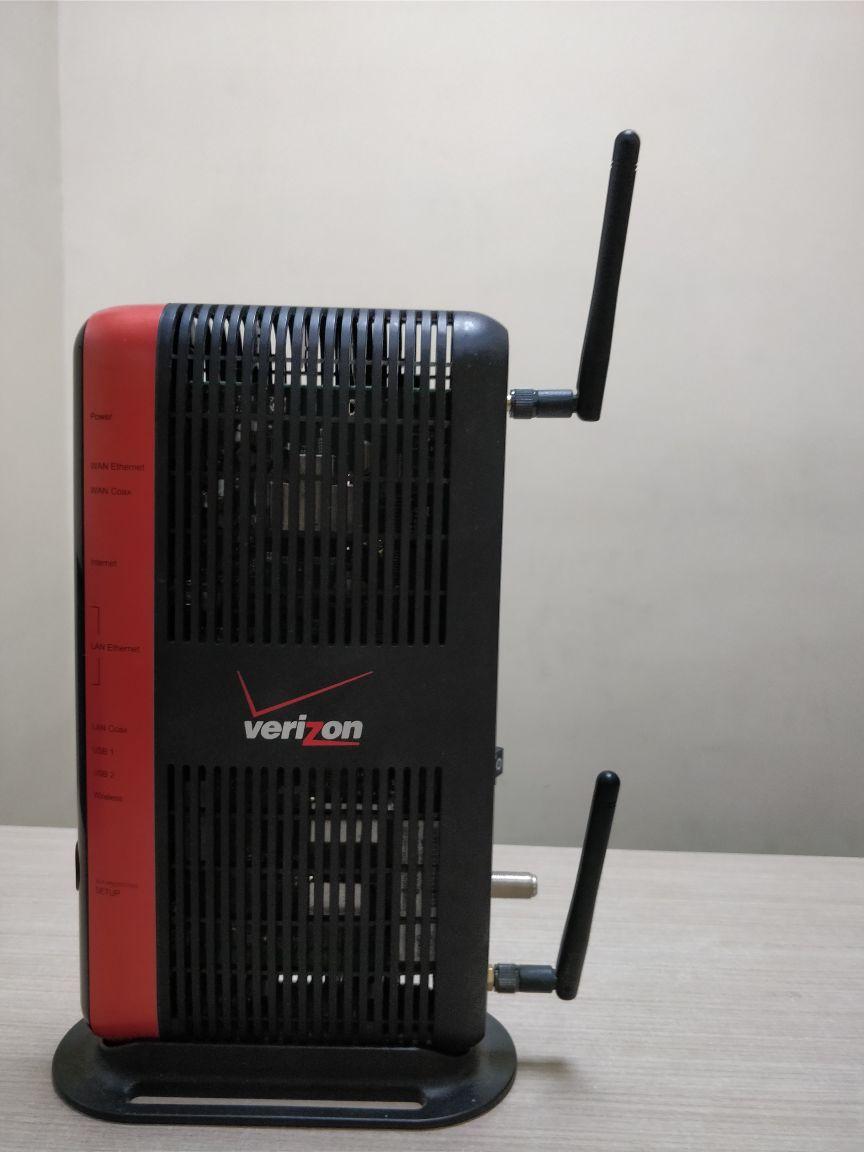Verizon Router: (26, 134, 694, 1152)
